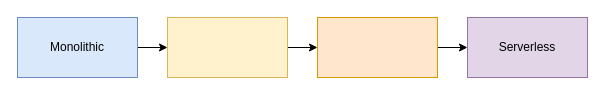
This 605x95 diagram has some shape labels left out. The box of each missing label's shape, as (x1, y1, x2, y2) in pixels:
Microservices: (316, 16, 438, 78)
Modular Monolithic: (166, 16, 288, 78)
